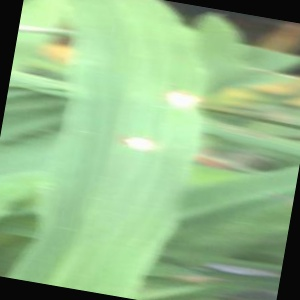Brown_Spot: (106, 127, 175, 166), (162, 88, 214, 120)
